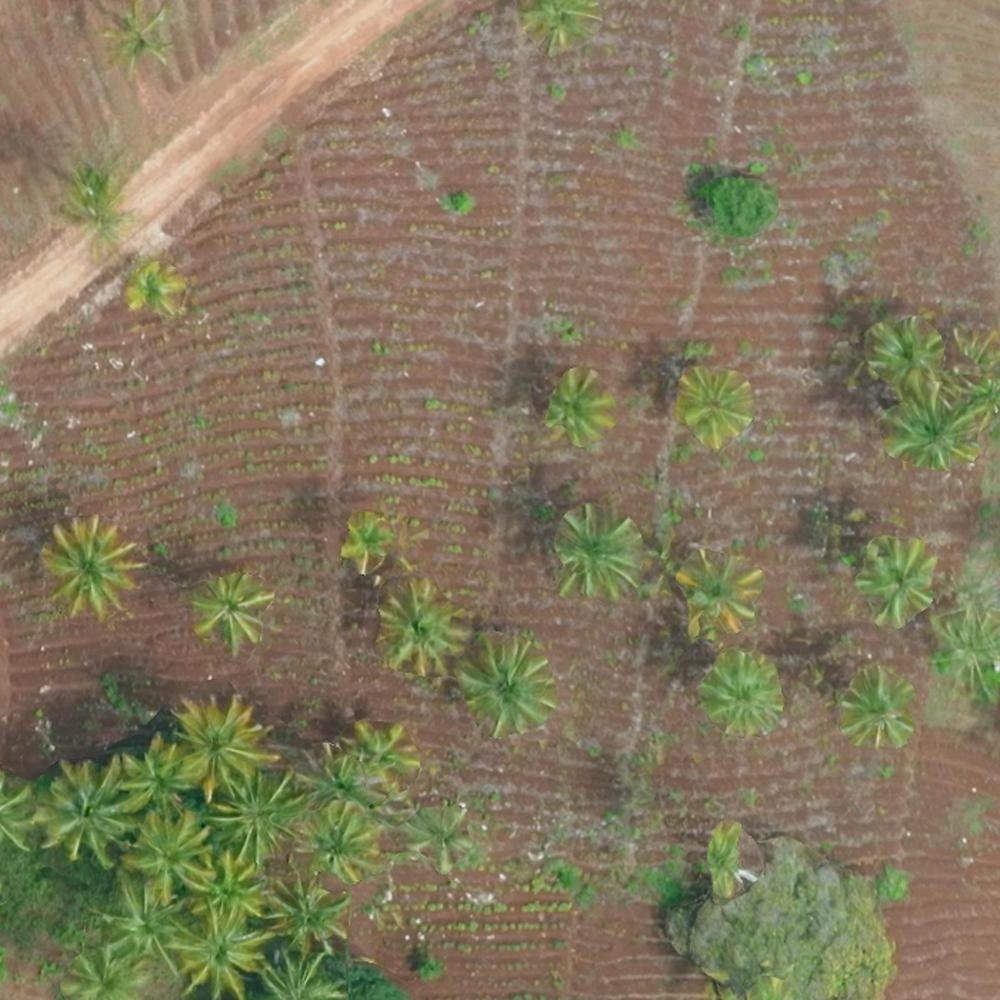not palm: (298, 184, 395, 276), (509, 157, 602, 252), (876, 144, 975, 228), (858, 24, 948, 113), (212, 368, 308, 451), (352, 342, 442, 428), (365, 76, 450, 164), (909, 907, 990, 992), (196, 125, 280, 206), (508, 919, 596, 993), (225, 28, 310, 104)
